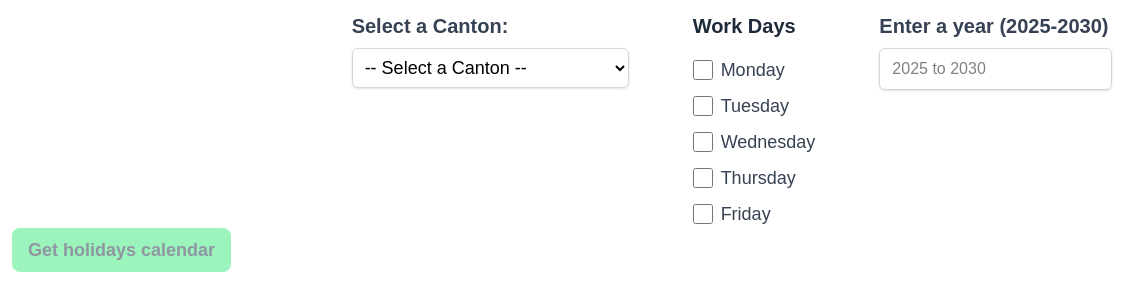
Test: Home Component › validates year input correctly
The image size is (1131, 289).
Type "2024" into the field with test id "year-input" at (996, 69), box [879,48,1112,90]
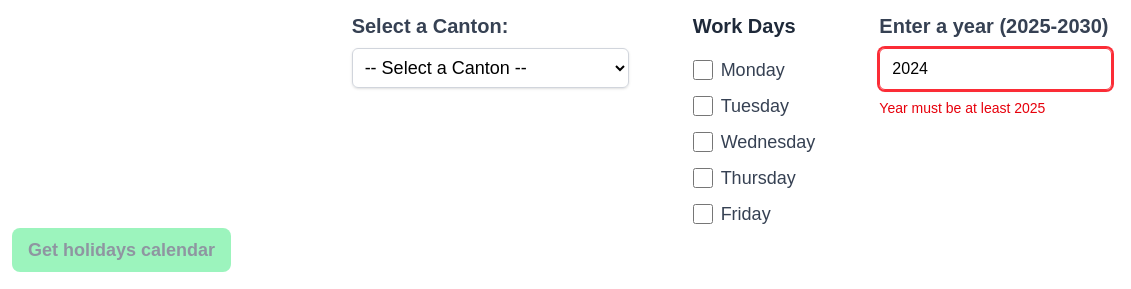
expect the text "Year must be at least 2025" is shown: met, box [879,100,1045,116]
Replace the text in the field with test id "year-input" with "2031" at (996, 69), box [879,48,1112,90]
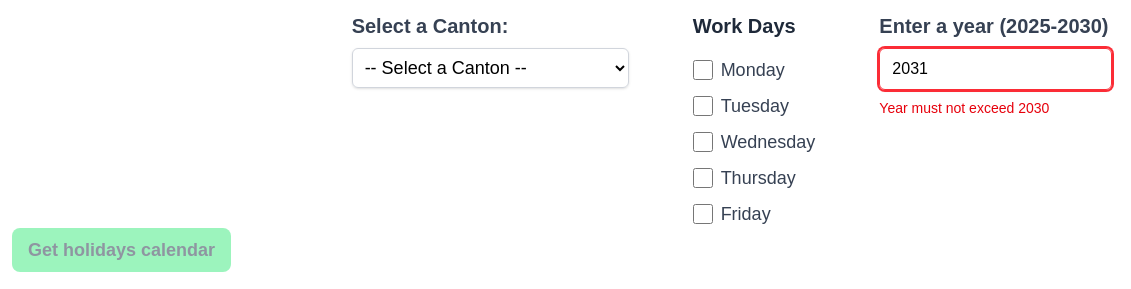
expect the text "Year must not exceed 2030" is shown: met, box [879,100,1049,116]
Replace the text in the field with test id "year-input" with "2025" at (996, 69), box [879,48,1112,90]
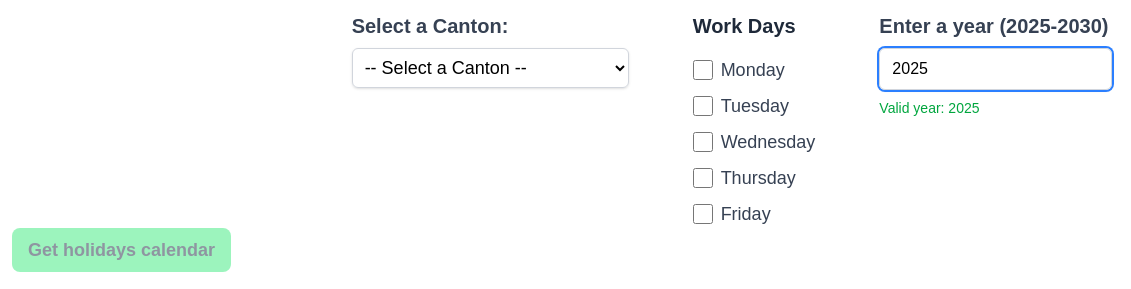
expect the text "Valid year: 2025" is shown: met, box [879,100,980,116]
